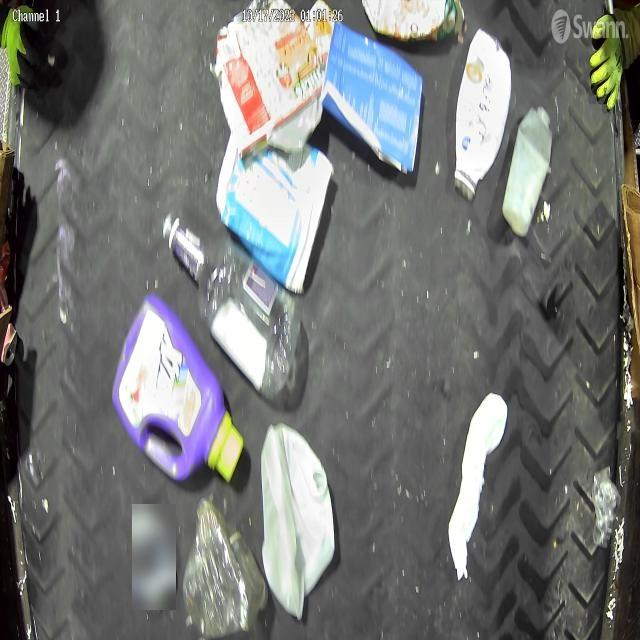milk_jug: (260, 424, 336, 616)
non_white_jug: (112, 298, 244, 484)
plastic_bottle: (161, 212, 304, 395)
